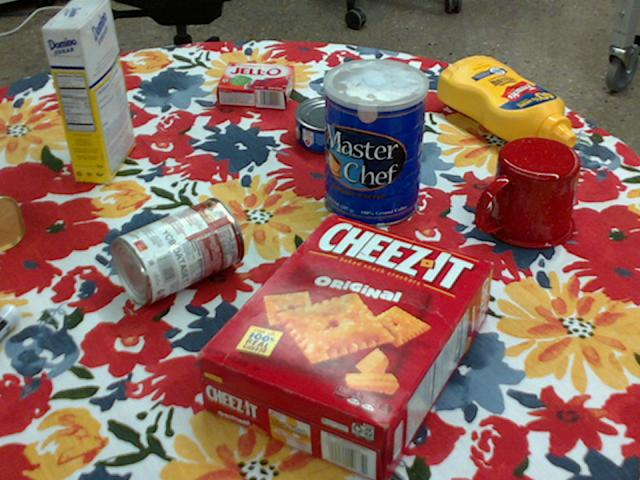cracker_box: (195, 216, 493, 479)
gelatin_box: (214, 64, 293, 111)
large_marker: (0, 303, 21, 338)
master_chef_can: (324, 59, 430, 229)
mug: (478, 138, 581, 250)
mustard_bottle: (436, 56, 575, 150)
potted_meat_can: (0, 193, 23, 250)
sugar_box: (43, 0, 134, 181)
tomato_soup_can: (109, 198, 243, 305)
tuna_fish_can: (294, 96, 367, 155)
